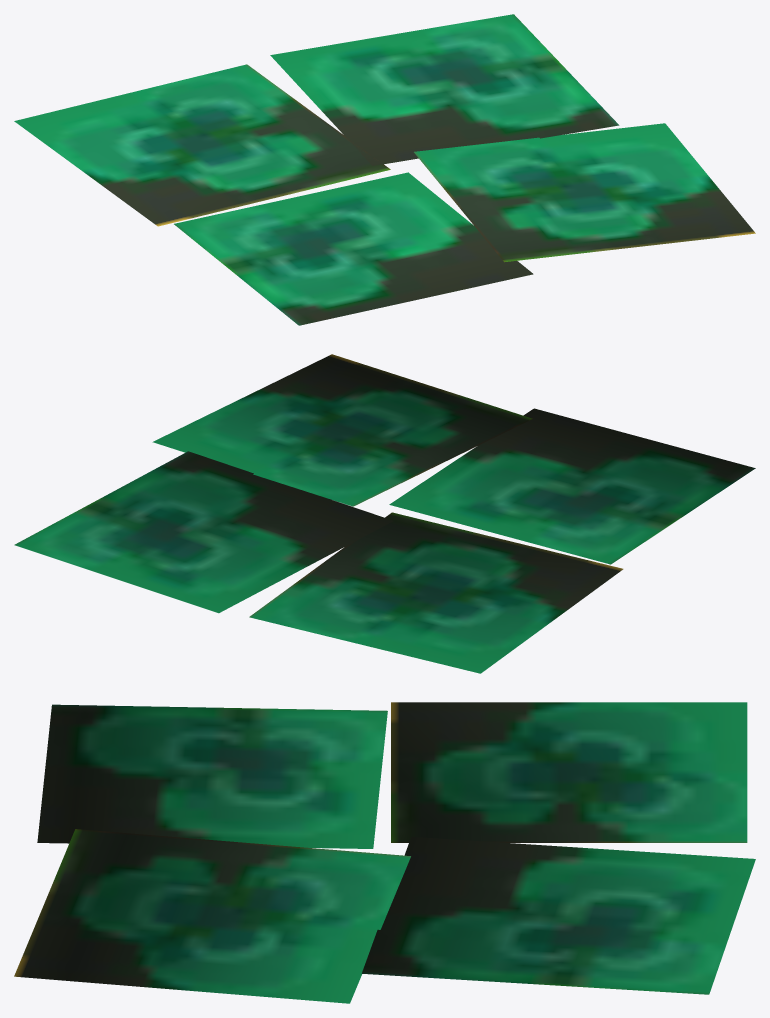
File: fg_grassE.dae
3 views of the same model, one above another, from view 1: azimuth 30°, elevation 25°; view 2: azimuth 150°, elevation 25°; view 3: azimuth 270°, elevation 25° (orthographic). The views are drawn at different scales.
Parts seen in each view (by area): view 1: fg_grassE; view 2: fg_grassE; view 3: fg_grassE.
Part boxes in pixels (<box>): fg_grassE: <box>14,14,755,325</box>; fg_grassE: <box>14,354,755,673</box>; fg_grassE: <box>14,702,755,1003</box>.
Size of the model in its own units: 23.5 by 0.3916 by 24.87.
1 material, 1 textured.
